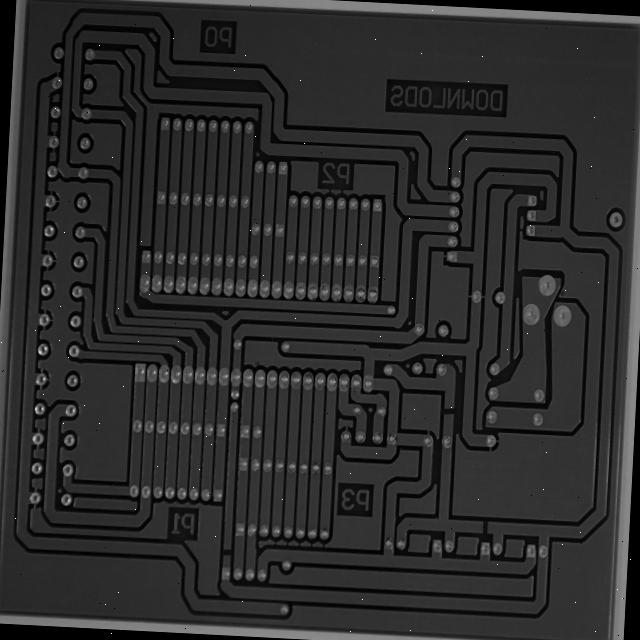open_circuit: (533, 497, 551, 521), (493, 361, 513, 381), (247, 530, 263, 550)
